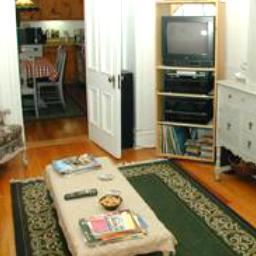Puerta: (82, 0, 120, 153)
